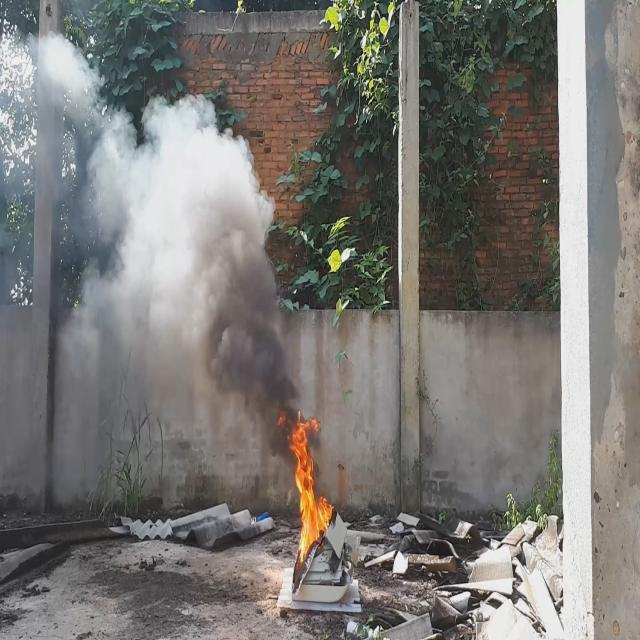Fire: (274, 406, 336, 582)
Smoke: (28, 29, 324, 463)
